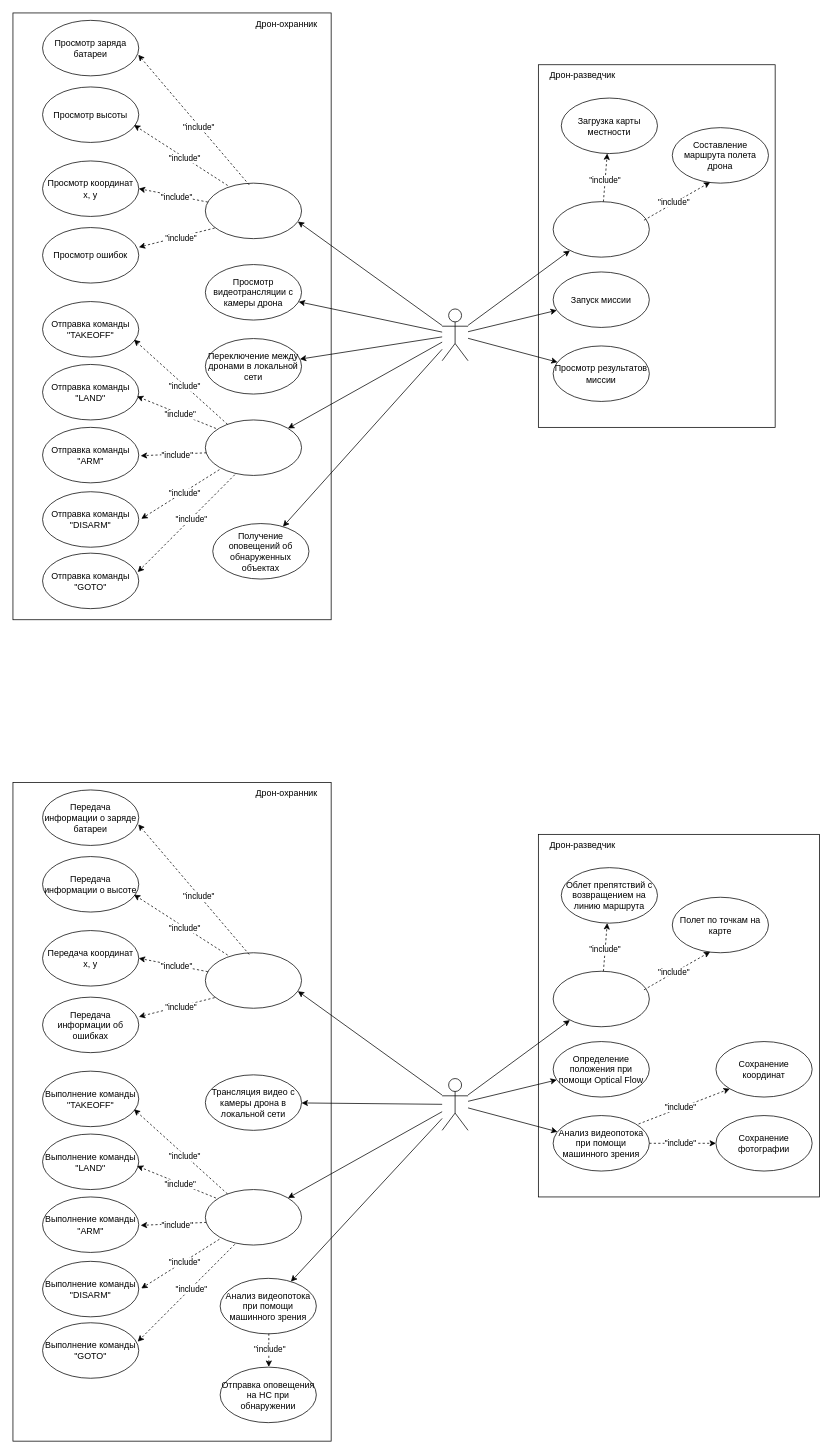
Some shapes in this 833 by 1454 pixel diagram are drawn without their labels. Each missing label, with the box of its shape:
Взаимодействие с картой местности: (552, 201, 649, 257)
Дрон: (441, 1078, 468, 1130)
Обработка и выполнение команд управления: (205, 1189, 302, 1245)
Оператор наземной станции: (441, 308, 468, 361)
Отправка команд управления на дрон: (205, 419, 302, 475)
Передача информации о текущем состоянии дрона на НС: (205, 952, 302, 1008)
Полет по заданому маршруту: (552, 971, 649, 1027)
Просмотр текущего состояния дрона: (205, 182, 302, 239)
